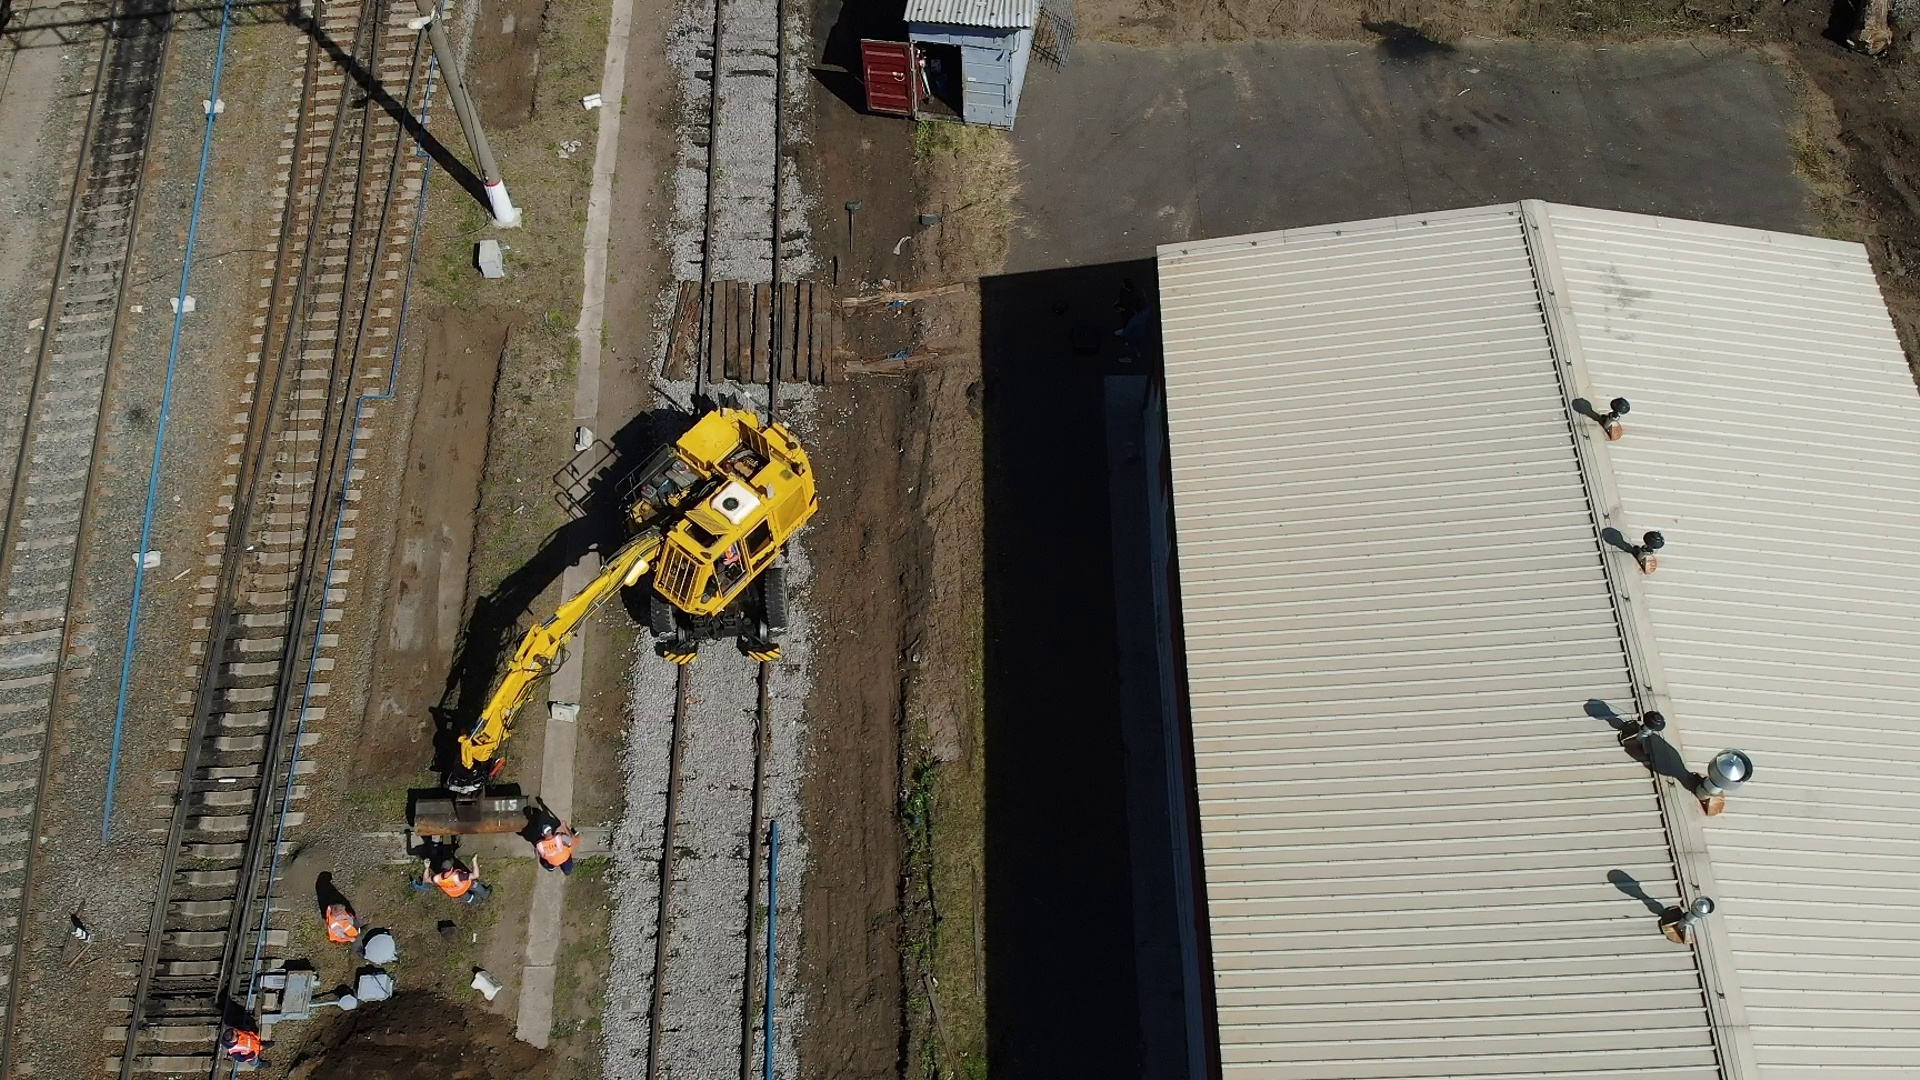kjtv: (539, 384, 822, 674)
